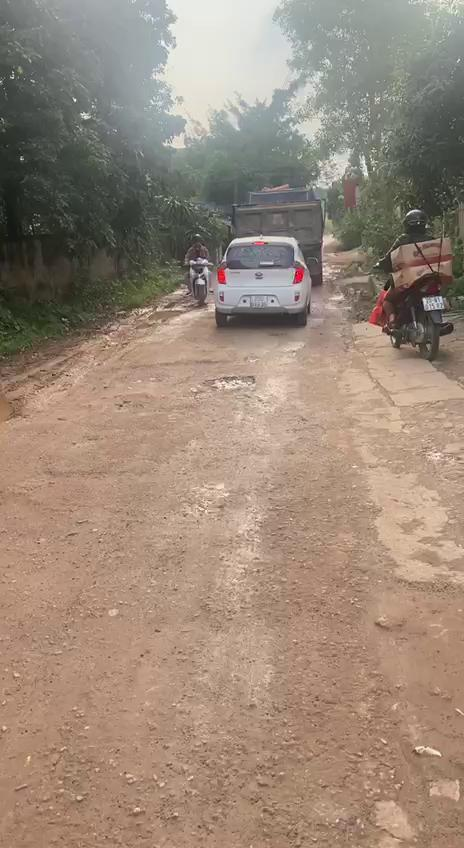pothole: (365, 576, 464, 848), (198, 373, 264, 395)
